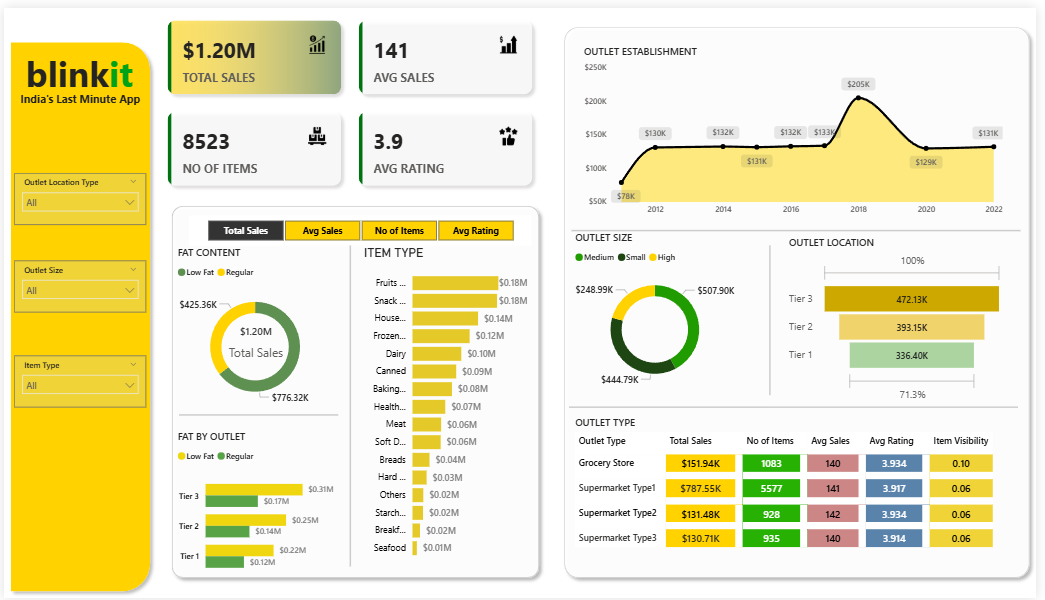

The page's visual inventory and layout, read from the dashboard file:
{"tool":"powerbi","page":{"name":"Page 1","canvas":[1400,800],"ordinal":0},"visuals":[{"type":"shape","box":[0,37.1,207.1,762.9],"z":0},{"type":"cardVisual","fields":{"Data":["BlinkIT Grocery Data.Total Sales","BlinkIT Grocery Data.Avg Sales","BlinkIT Grocery Data.No of Items","BlinkIT Grocery Data.Avg Rating"]},"box":[205.7,0,528.6,258.6],"z":1000},{"type":"textbox","box":[0,50,205,160],"z":2000},{"type":"textbox","box":[5,108.3,196.7,43.3],"z":3000},{"type":"shape","box":[219,258.7,515.9,522.2],"z":4000},{"type":"donutChart","title":" FAT CONTENT","fields":{"Y":["BlinkIT Grocery Data.Total Sales"],"Category":["BlinkIT Grocery Data.Item Fat Content"]},"box":[231.2,321.9,220.3,229.7],"z":5000},{"type":"slicer","fields":{"Values":["Metrics.Metrics"]},"box":[250,281.2,464.1,40.6],"z":6000},{"type":"card","fields":{"Values":["BlinkIT Grocery Data.Total Sales"]},"box":[295.3,418.8,93.8,67.2],"z":7000},{"type":"clusteredBarChart","title":"FAT BY OUTLET","fields":{"Y":["BlinkIT Grocery Data.Total Sales"],"Category":["BlinkIT Grocery Data.Outlet Location Type"],"Series":["BlinkIT Grocery Data.Item Fat Content"]},"box":[230.8,570.8,221.5,210.8],"z":8000},{"type":"shape","box":[236.5,541.3,215.9,22.2],"z":9000},{"type":"shape","box":[446.2,321.5,47.7,435.4],"z":10000},{"type":"barChart","title":"ITEM TYPE","fields":{"Y":["BlinkIT Grocery Data.Total Sales"],"Category":["BlinkIT Grocery Data.Item Type"]},"box":[482.5,322.2,231.7,434.9],"z":11000},{"type":"shape","box":[751.5,16.2,648.5,764.7],"z":12000},{"type":"lineChart","title":" OUTLET ESTABLISHMENT","fields":{"Y":["BlinkIT Grocery Data.Total Sales"],"Category":["BlinkIT Grocery Data.Outlet Establishment Year"]},"box":[780.9,50,577.9,241.2],"z":13000},{"type":"shape","box":[769.1,291.2,608.8,20.6],"z":14000},{"type":"donutChart","title":"OUTLET SIZE","fields":{"Y":["BlinkIT Grocery Data.Total Sales"],"Category":["BlinkIT Grocery Data.Outlet Size"]},"box":[769.1,301.5,226.5,223.5],"z":15000},{"type":"shape","box":[1019.1,322.1,39.7,202.9],"z":16000},{"type":"funnel","title":"OUTLET LOCATION","fields":{"Y":["Sum(BlinkIT Grocery Data.Sales)"],"Category":["BlinkIT Grocery Data.Outlet Location Type"]},"box":[1058.8,308.8,300,230.9],"z":17000},{"type":"shape","box":[766.2,533.8,608.8,14.7],"z":18000},{"type":"pivotTable","title":"OUTLET TYPE","fields":{"Rows":["BlinkIT Grocery Data.Outlet Type"],"Values":["BlinkIT Grocery Data.Total Sales","BlinkIT Grocery Data.No of Items","BlinkIT Grocery Data.Avg Sales","BlinkIT Grocery Data.Avg Rating","Avg(BlinkIT Grocery Data.Item Visibility)"]},"box":[769.1,552.9,605.9,204.4],"z":19000},{"type":"slicer","fields":{"Values":["BlinkIT Grocery Data.Outlet Location Type"]},"box":[13.2,223.5,179.4,70.6],"z":20000},{"type":"slicer","fields":{"Values":["BlinkIT Grocery Data.Outlet Size"]},"box":[13.2,342.6,179.4,70.6],"z":21000},{"type":"slicer","fields":{"Values":["BlinkIT Grocery Data.Item Type"]},"box":[13.2,470.6,179.4,70.6],"z":22000}]}

Visuals, with their boxes in screenshot pixels (x1, y1, x2, y2), scaled from the page's 1400x800 canvas onto the 1045x600 screenshot:
shape: BBox(0, 28, 155, 599)
cardVisual - BlinkIT Grocery Data.Total Sales x BlinkIT Grocery Data.Avg Sales: BBox(154, 0, 548, 194)
textbox: BBox(0, 38, 153, 158)
textbox: BBox(4, 81, 151, 114)
shape: BBox(163, 194, 549, 586)
" FAT CONTENT" donutChart: BBox(173, 241, 337, 414)
slicer - Metrics.Metrics: BBox(187, 211, 533, 241)
card - BlinkIT Grocery Data.Total Sales: BBox(220, 314, 290, 364)
"FAT BY OUTLET" clusteredBarChart: BBox(172, 428, 338, 586)
shape: BBox(177, 406, 338, 423)
shape: BBox(333, 241, 369, 568)
"ITEM TYPE" barChart: BBox(360, 242, 533, 568)
shape: BBox(561, 12, 1044, 586)
" OUTLET ESTABLISHMENT" lineChart: BBox(583, 38, 1014, 218)
shape: BBox(574, 218, 1029, 234)
"OUTLET SIZE" donutChart: BBox(574, 226, 743, 394)
shape: BBox(761, 242, 790, 394)
"OUTLET LOCATION" funnel: BBox(790, 232, 1014, 405)
shape: BBox(572, 400, 1026, 411)
"OUTLET TYPE" pivotTable: BBox(574, 415, 1026, 568)
slicer - BlinkIT Grocery Data.Outlet Location Type: BBox(10, 168, 144, 221)
slicer - BlinkIT Grocery Data.Outlet Size: BBox(10, 257, 144, 310)
slicer - BlinkIT Grocery Data.Item Type: BBox(10, 353, 144, 406)
